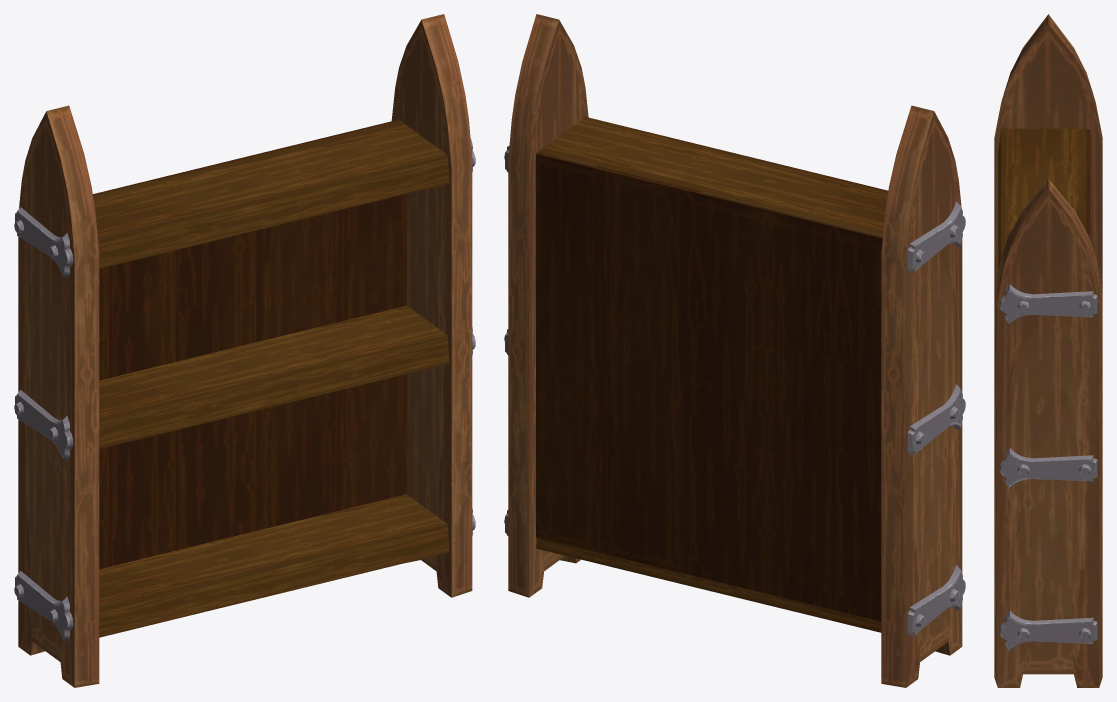
Rendered from Shelf Arch.glb.
3 views of the same model, side by side, from view 1: azimuth 30°, elevation 25°; view 2: azimuth 150°, elevation 25°; view 3: azimuth 270°, elevation 25° (orthographic). The views are drawn at different scales.
Visible parts, largest first — view 1: Shelf_Arch; view 2: Shelf_Arch; view 3: Shelf_Arch.
Boxes of the visible parts, x1,y1,x2,y2 form: Shelf_Arch: (14,14,475,687); Shelf_Arch: (504,14,965,687); Shelf_Arch: (994,14,1102,687).
Size of the model in its own units: 1.25 by 1.59 by 0.3116.
Materials: 2 (2 with a texture image).
